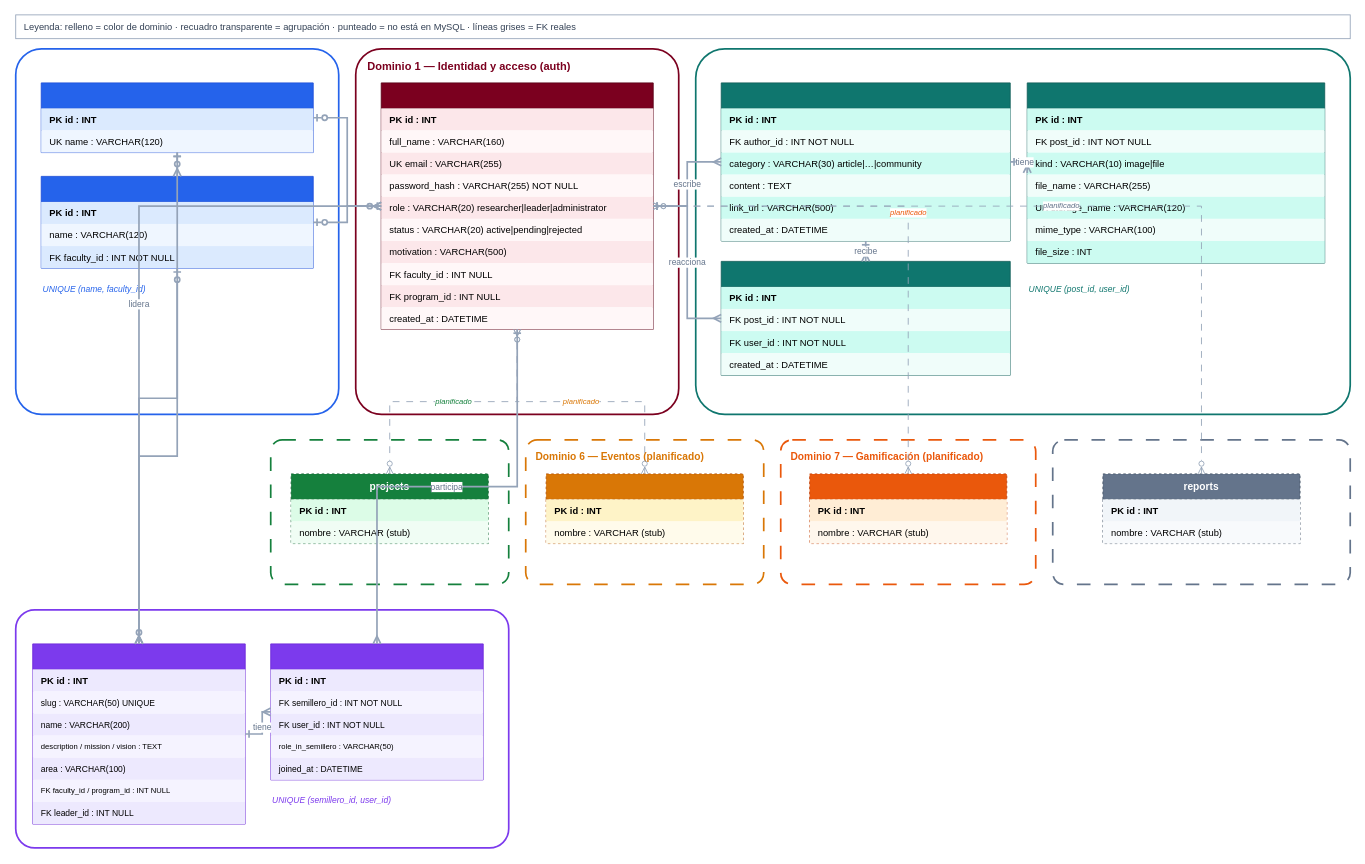
The diagram is 1365 pixels wide and 864 high, and some of its shapes have lost their labels. Here are the shapes that lost their labels. From the top down, the box of each, then its label:
(40, 82, 313, 153): faculties
(720, 82, 1010, 241): posts
(1026, 82, 1325, 263): post_attachments
(40, 176, 313, 268): programs
(380, 82, 653, 329): users
(14, 48, 339, 415): Dominio 2 — Catálogo académico
(694, 48, 1351, 415): Dominio 3 — Feed / publicaciones
(720, 261, 1010, 375): post_reactions
(269, 439, 509, 585): Dominio 5 — Proyectos (planificado)
(545, 473, 743, 544): events
(809, 473, 1007, 544): achievements
(1051, 439, 1351, 585): Dominio 8 — Reportes (planificado)
(14, 609, 509, 848): Dominio 4 — Semilleros (implementado)
(270, 643, 483, 780): semillero_members
(32, 643, 245, 824): semilleros (migración 0002)
